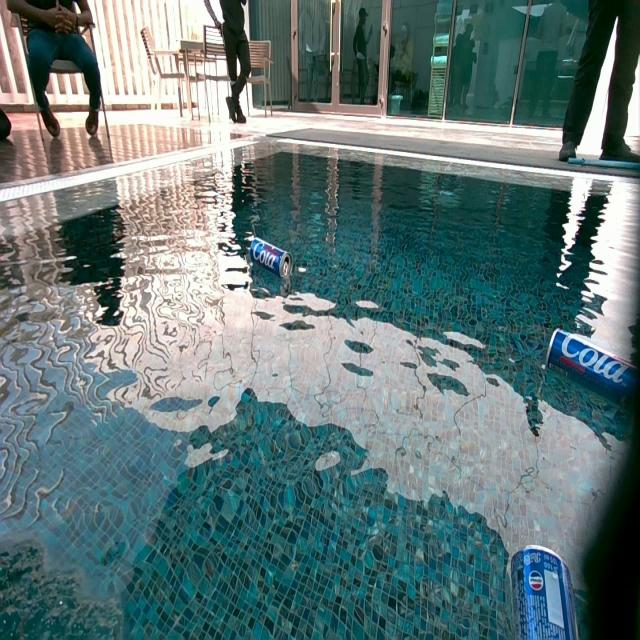Cans: (506, 542, 593, 636), (543, 329, 638, 409), (250, 239, 293, 281)
